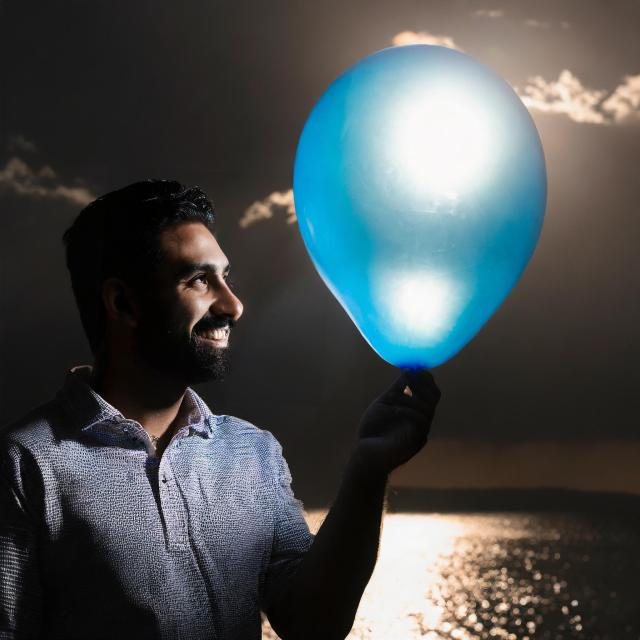blue: (297, 46, 551, 379)
